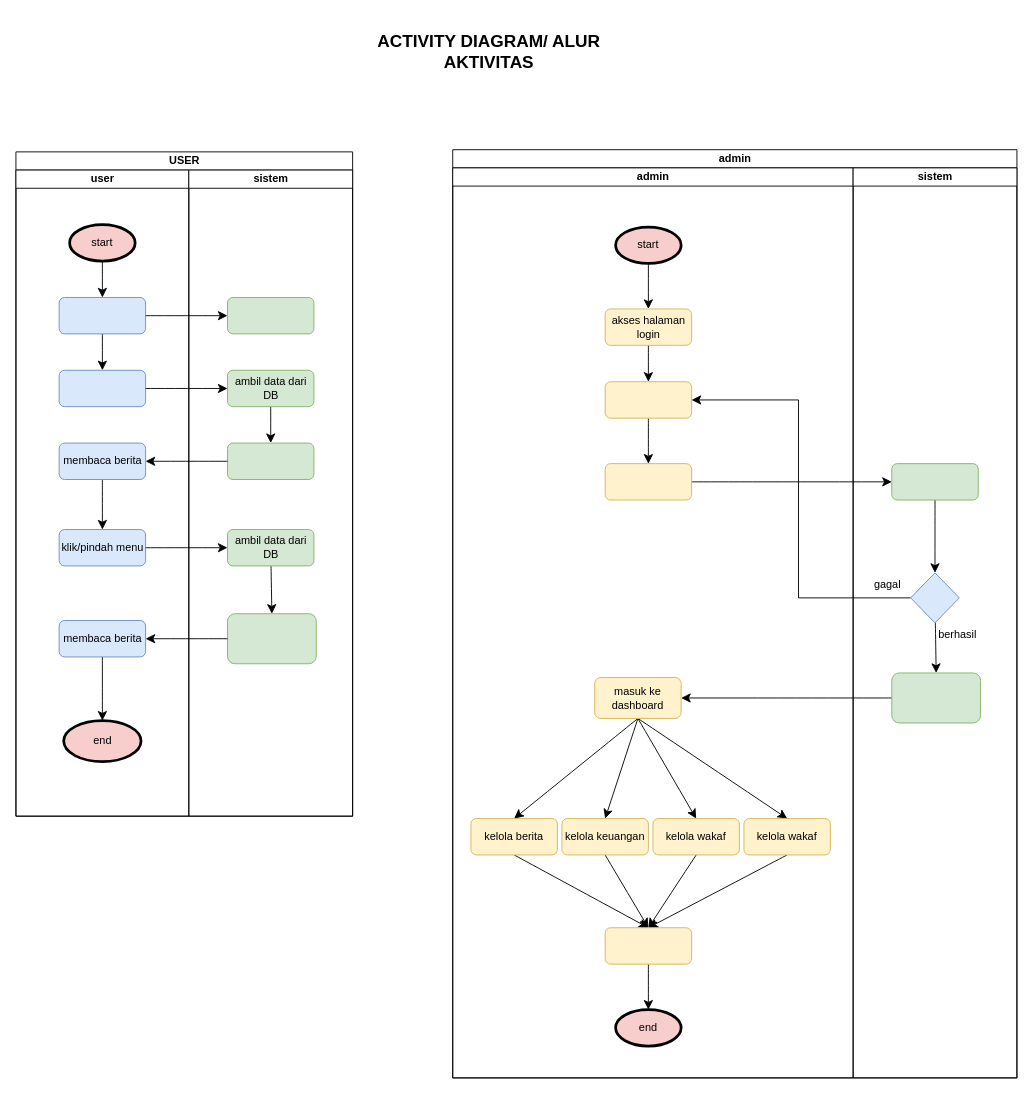
Some shapes in this 1033 by 1094 pixel diagram are drawn without their labels. The shapes that lost their labels are listed below. From the top down, each one's centre as x and y in pixels, then its label:
(102,315): akses halaman beranda
(270,315): tampilkan judul berita
(102,388): klik judul berita
(648,399): input username dan password
(270,460): tampilkan detail berita
(648,481): submit
(934,481): verifikasi login
(934,597): cocok?
(271,638): tampilkan halaman menu yang di pilih
(936,697): tampilkan halaman dashboard
(648,945): logout
